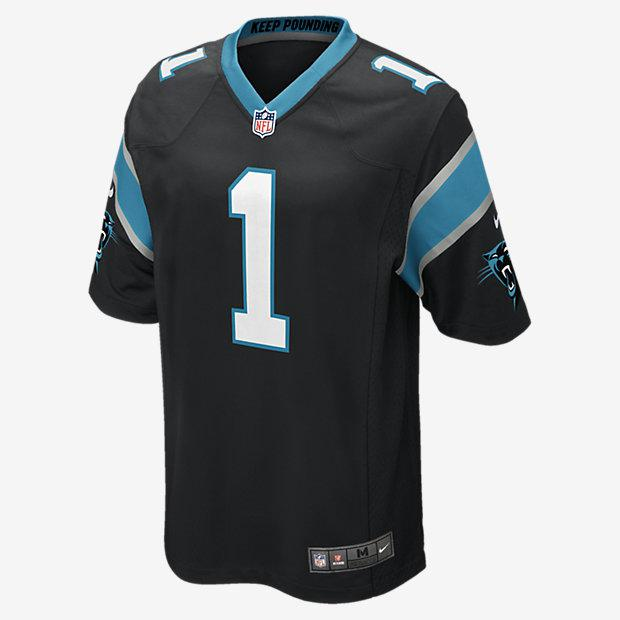teeshirt: (101, 11, 553, 610)
